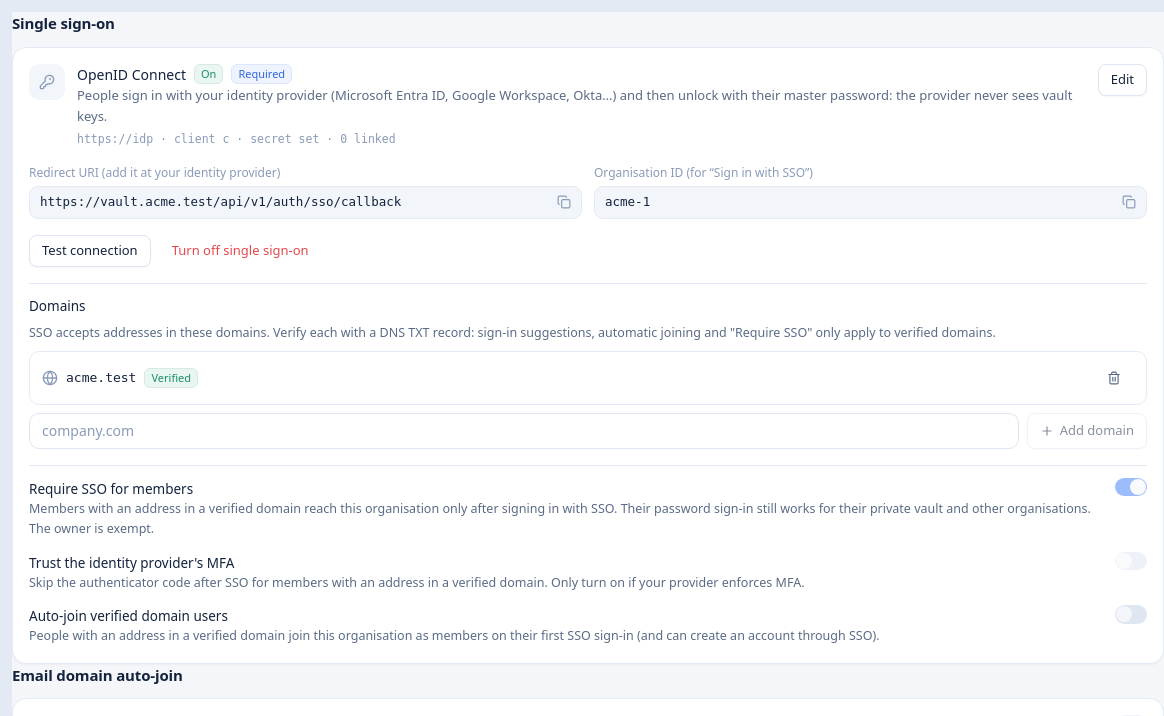
owner-only SSO options › explains why an admin can't remove the last verified domain while Require SSO is on
Click the button named "Remove acme.test" at point(1114, 378), box [1094, 362, 1134, 394]
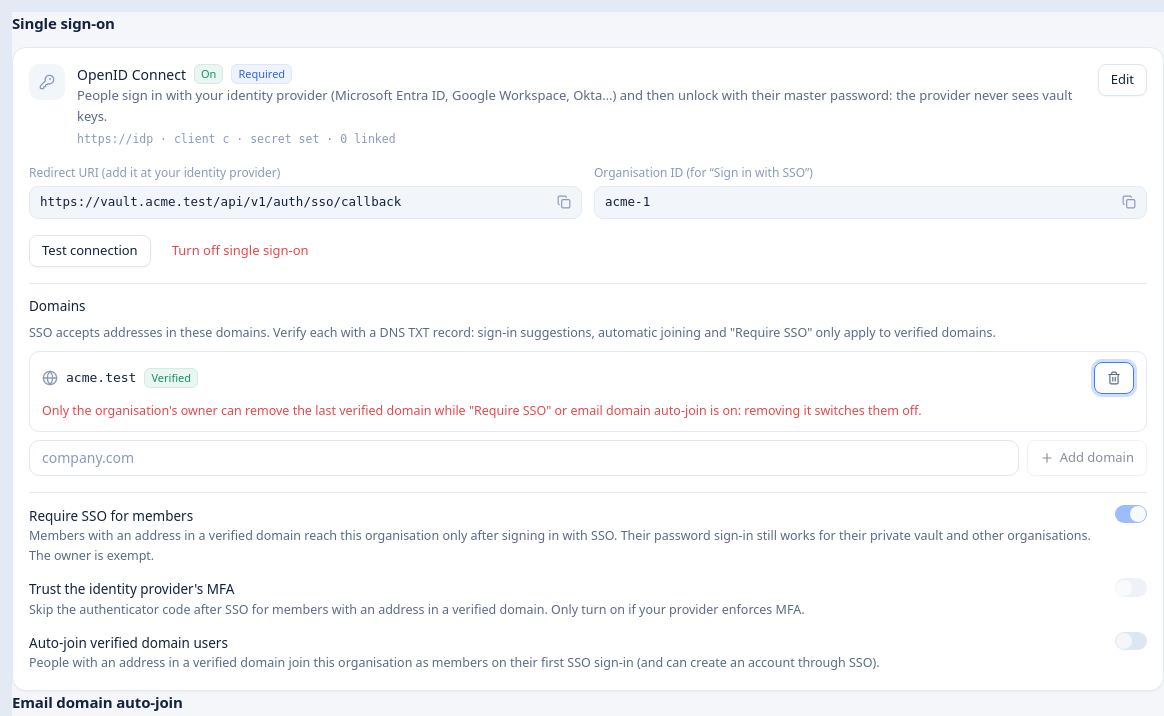
Now the message shows "Only the organisation's owner can remove the last verified domain while \"Require SSO\" or email domain auto-join is on", box [42, 402, 922, 419]
